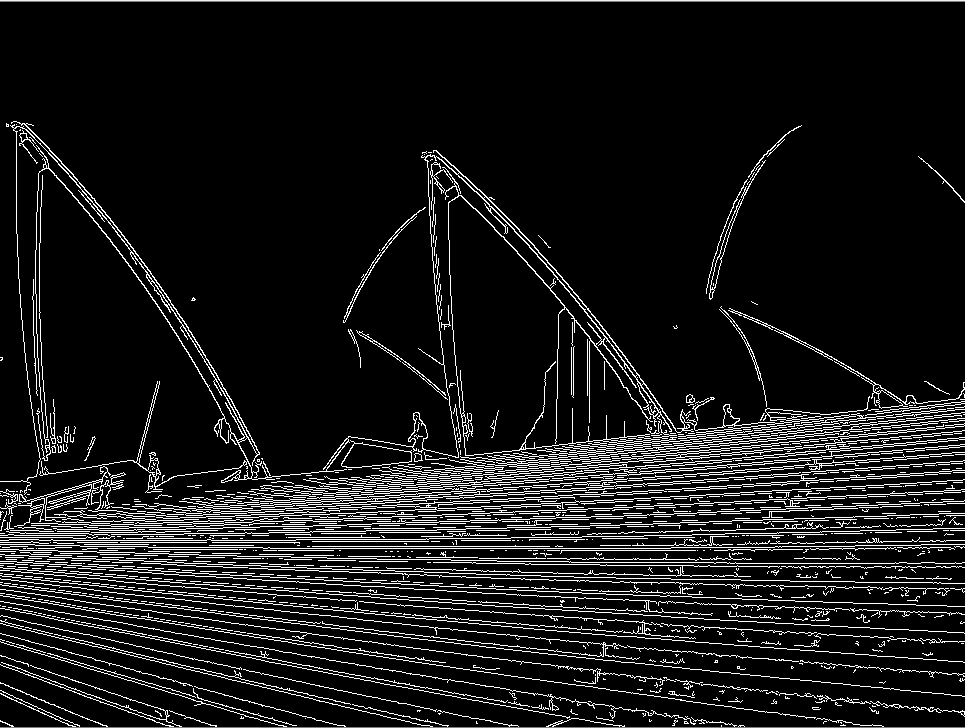opera house: (4, 86, 964, 428)
